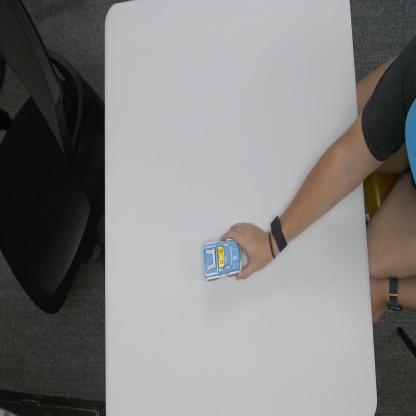Arm: (287, 125, 364, 240)
Car: (202, 239, 242, 284)
Hand: (221, 220, 271, 281)
